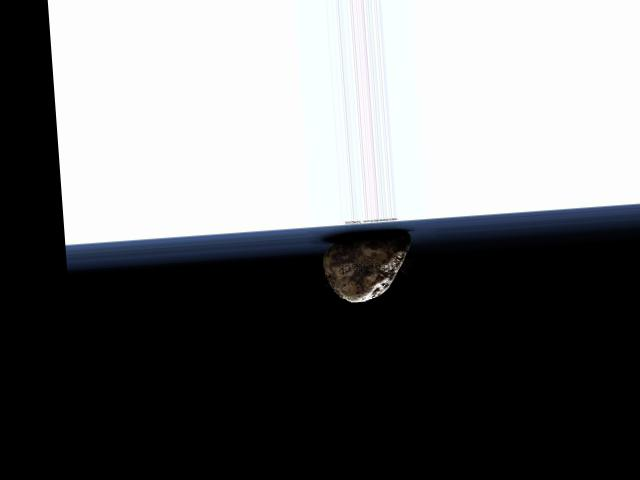beet: (319, 231, 413, 303)
